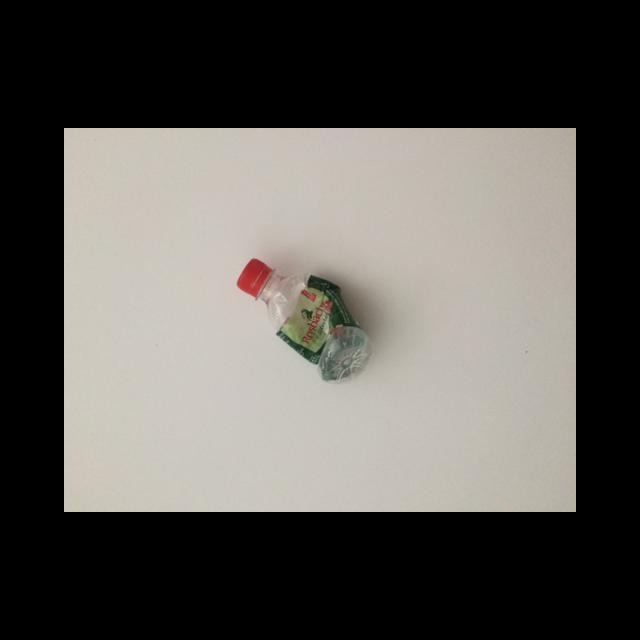plastic: (236, 256, 370, 383), (275, 274, 360, 364), (235, 257, 271, 294)
